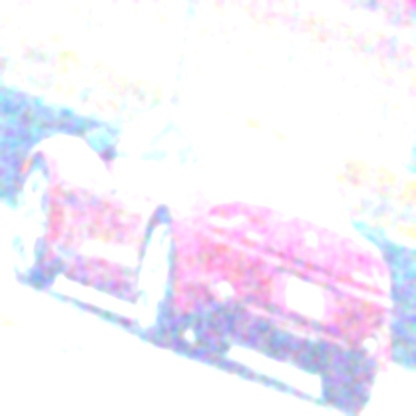Vehicle: (12, 109, 392, 415)
